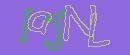J: (44, 11, 64, 49)
L: (88, 13, 109, 46)
N: (63, 5, 95, 40)
a: (27, 11, 51, 34)
l: (20, 8, 30, 41)
